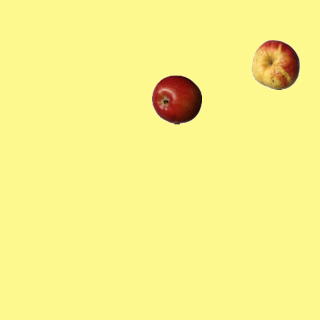Apple Braeburn: (151, 74, 201, 124)
Apple Red Yellow 1: (250, 39, 300, 89)
